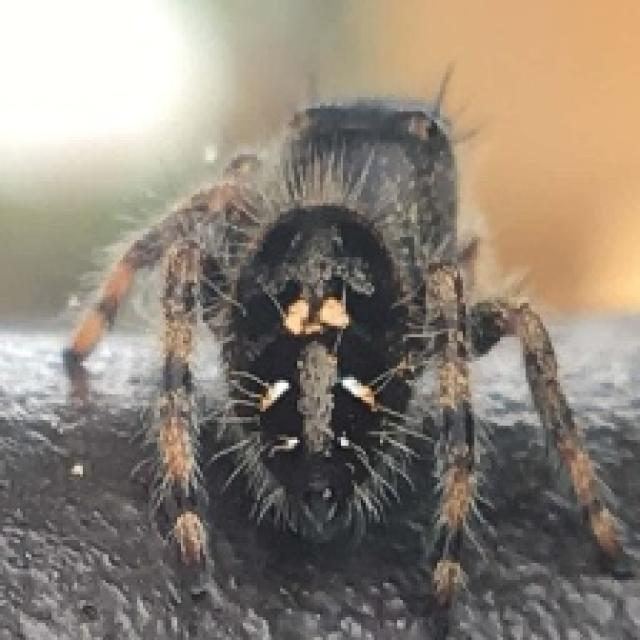Non venomous spider: (61, 61, 627, 608)
